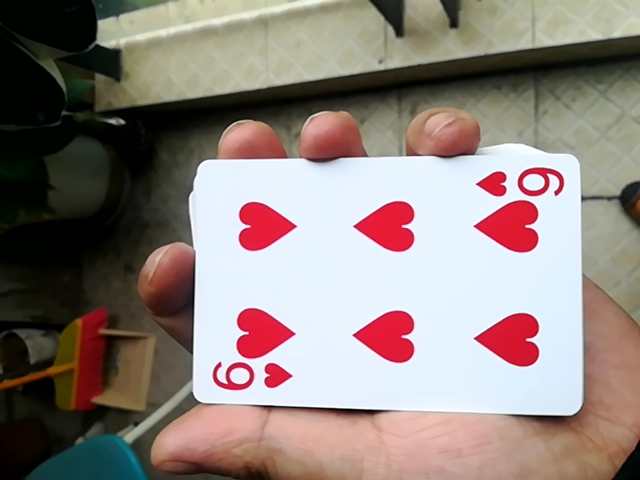hx 6: (173, 150, 580, 419)
